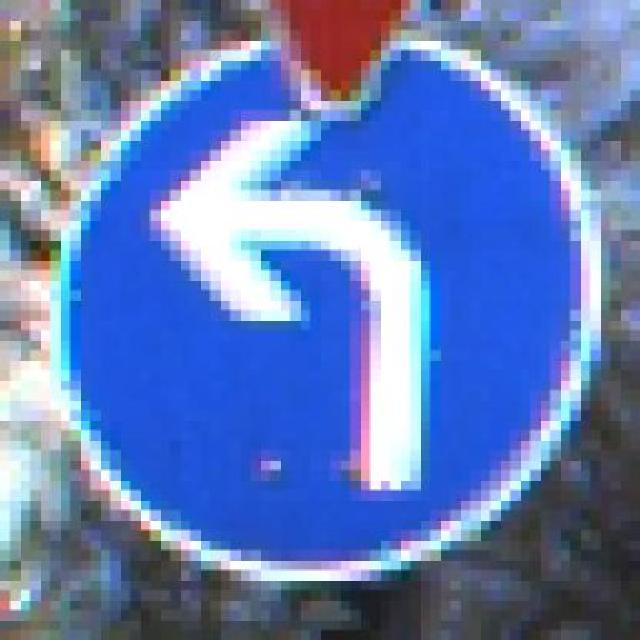Turn left ahead: (60, 40, 620, 591)
